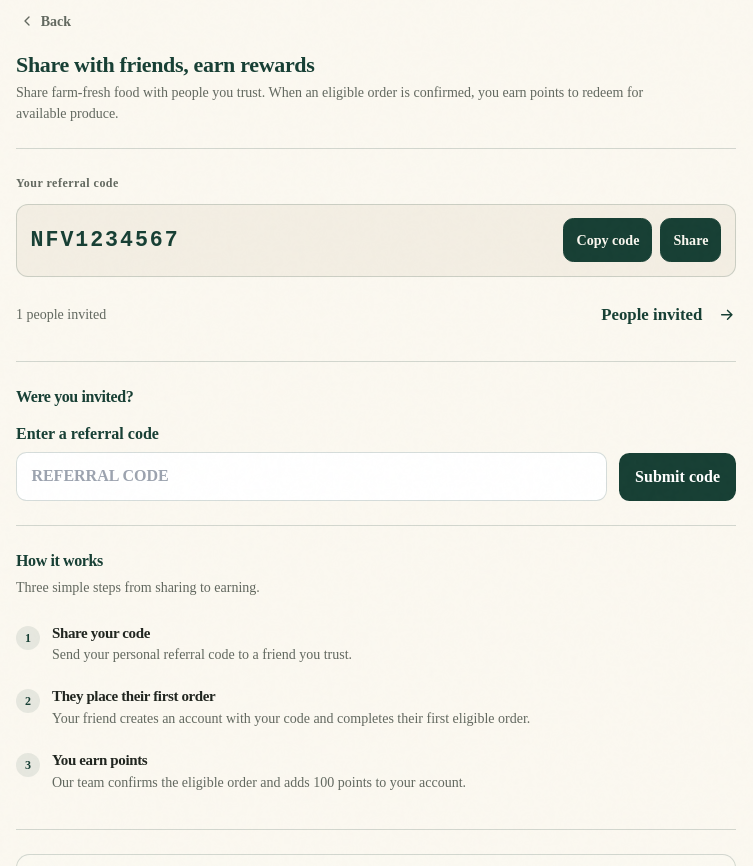
Test case: public account pages › allows resubmitting if the first referral POST fails
This screenshot has width=753, height=866.
Type "REFCODE123" into the field labelled "Enter a referral code".
click(312, 476); type("REFCODE123")  # box top-left (16, 452), bottom-right (607, 501)
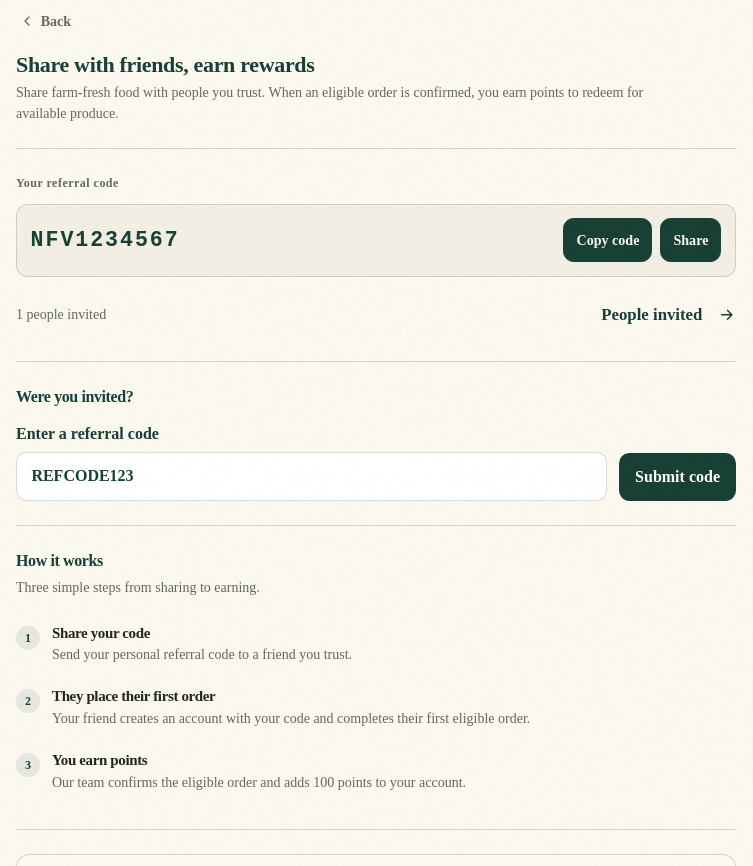
// First submit fails
Click the button "Submit code".
click(678, 477)  # box top-left (619, 453), bottom-right (736, 501)
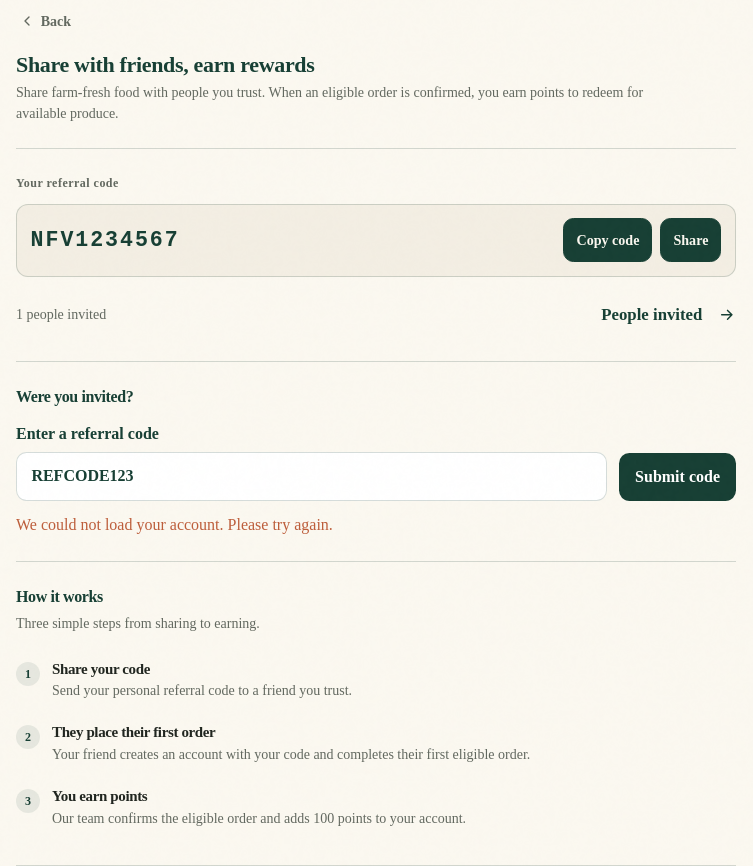
Check: the text "We could not load your account. Please try again." is shown, box top-left (16, 516), bottom-right (333, 533)
// Submit again
Click the button "Submit code".
click(678, 477)  # box top-left (619, 453), bottom-right (736, 501)
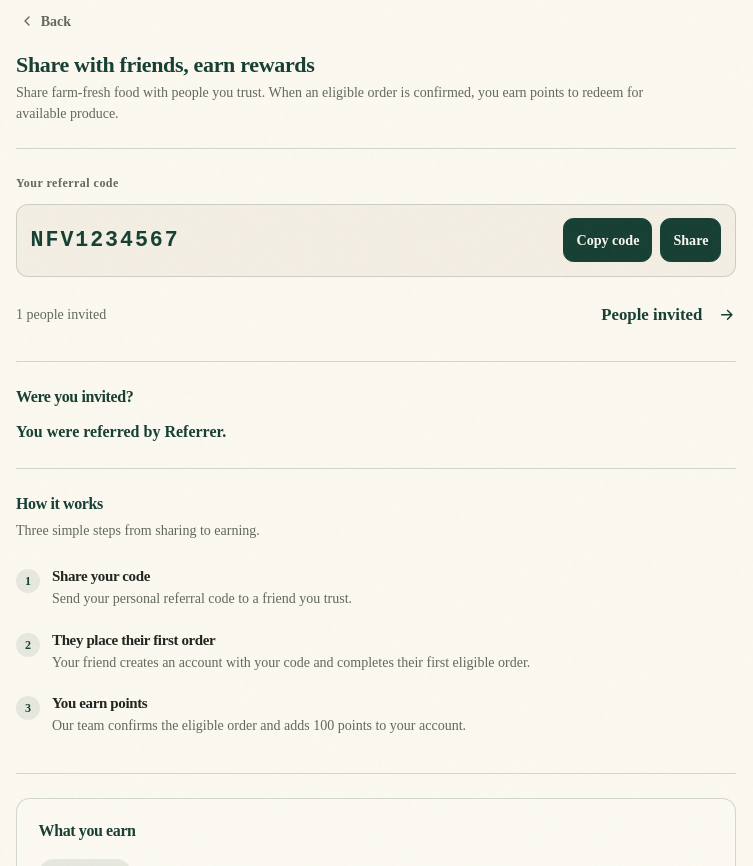
Check: the text "You were referred by Referrer." is shown, box top-left (16, 423), bottom-right (226, 440)
Check: the text labelled "Enter a referral code" is gone
